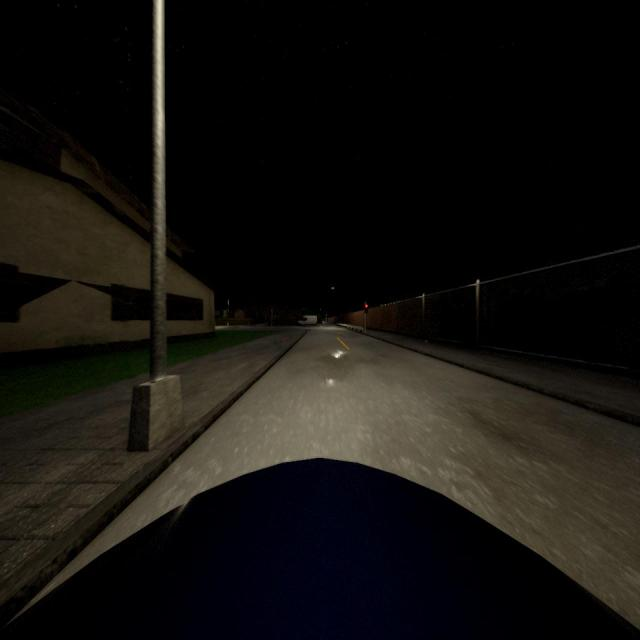Vehicle: (0, 453, 640, 640), (298, 315, 318, 327)
traffic_light: (364, 304, 368, 314)
